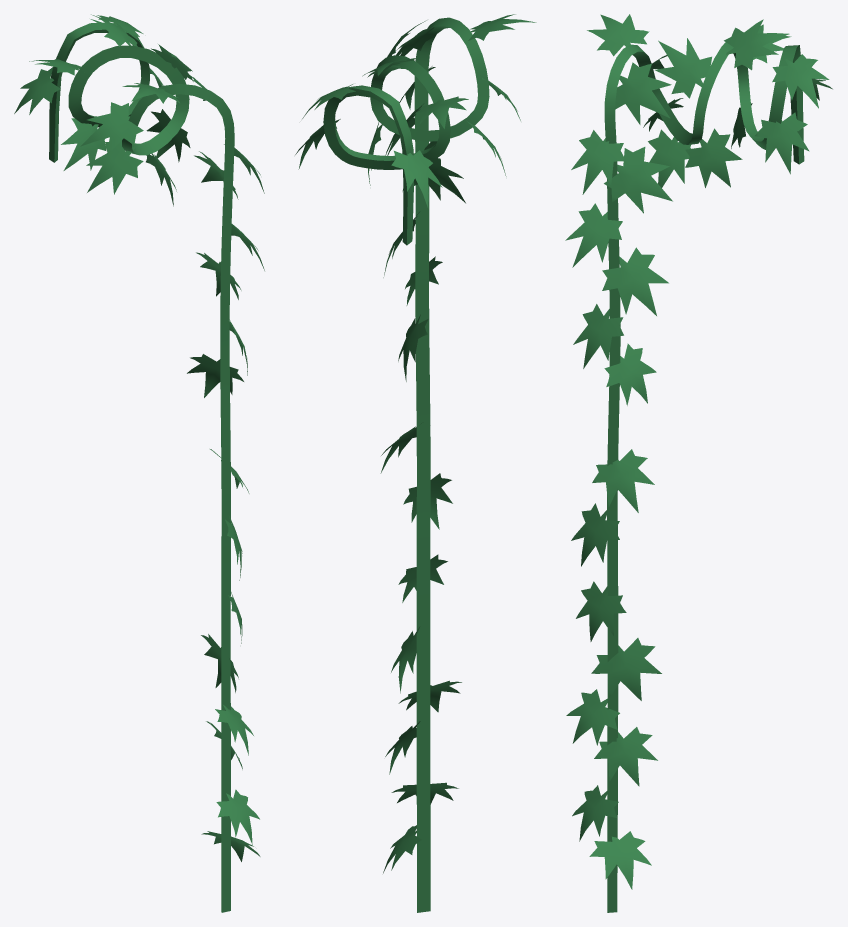
Rendered from vine_K_alangium.fbx.
3 renders of one model, left to right at view 1: azimuth 30°, elevation 25°; view 2: azimuth 150°, elevation 25°; view 3: azimuth 270°, elevation 25°, orthographic. The views are drawn at different scales.
Visible parts, largest first — view 1: vine_K_alangium_root, vine_alangium_A_leaf_B17, vine_alangium_A_leaf_B18, vine_alangium_A_leaf_B24, vine_alangium_A_leaf_B8, vine_alangium_A_leaf_B28, vine_alangium_A_leaf_B4, vine_alangium_A_leaf_B20, vine_alangium_A_leaf_B9, vine_alangium_A_leaf_B2, vine_alangium_A_leaf_B21; view 2: vine_K_alangium_root, vine_alangium_A_leaf_B28, vine_alangium_A_leaf_B11, vine_alangium_A_leaf_B24, vine_alangium_A_leaf_B4, vine_alangium_A_leaf_B23, vine_alangium_A_leaf_B2, vine_alangium_A_leaf_B10, vine_alangium_A_leaf_B16, vine_alangium_A_leaf_B, vine_alangium_A_leaf_B9, vine_alangium_A_leaf_B8; view 3: vine_K_alangium_root, vine_alangium_A_leaf_B5, vine_alangium_A_leaf_B6, vine_alangium_A_leaf_B2, vine_alangium_A_leaf_B7, vine_alangium_A_leaf_B3, vine_alangium_A_leaf_B1, vine_alangium_A_leaf_B22, vine_alangium_A_leaf_B14, vine_alangium_A_leaf_B20, vine_alangium_A_leaf_B15, vine_alangium_A_leaf_B (+11 smaller).
Part boxes in pixels (x1=…): vine_K_alangium_root: x1=49, y1=22, x2=234, y2=912; vine_alangium_A_leaf_B17: x1=80, y1=102, x2=143, y2=154; vine_alangium_A_leaf_B18: x1=86, y1=140, x2=143, y2=194; vine_alangium_A_leaf_B24: x1=61, y1=118, x2=106, y2=170; vine_alangium_A_leaf_B8: x1=216, y1=789, x2=259, y2=844; vine_alangium_A_leaf_B28: x1=14, y1=67, x2=60, y2=114; vine_alangium_A_leaf_B4: x1=187, y1=354, x2=243, y2=397; vine_alangium_A_leaf_B20: x1=146, y1=109, x2=190, y2=162; vine_alangium_A_leaf_B9: x1=215, y1=705, x2=253, y2=755; vine_alangium_A_leaf_B2: x1=201, y1=634, x2=238, y2=692; vine_alangium_A_leaf_B21: x1=90, y1=14, x2=137, y2=46; vine_K_alangium_root: x1=323, y1=17, x2=489, y2=912; vine_alangium_A_leaf_B28: x1=391, y1=150, x2=442, y2=208; vine_alangium_A_leaf_B11: x1=403, y1=473, x2=452, y2=529; vine_alangium_A_leaf_B24: x1=414, y1=154, x2=465, y2=203; vine_alangium_A_leaf_B4: x1=398, y1=314, x2=428, y2=381; vine_alangium_A_leaf_B23: x1=413, y1=96, x2=468, y2=128; vine_alangium_A_leaf_B2: x1=391, y1=626, x2=420, y2=693; vine_alangium_A_leaf_B10: x1=398, y1=554, x2=447, y2=602; vine_alangium_A_leaf_B16: x1=468, y1=14, x2=536, y2=40; vine_alangium_A_leaf_B: x1=383, y1=825, x2=421, y2=873; vine_alangium_A_leaf_B9: x1=398, y1=680, x2=461, y2=712; vine_alangium_A_leaf_B8: x1=391, y1=782, x2=458, y2=804; vine_K_alangium_root: x1=604, y1=42, x2=804, y2=912; vine_alangium_A_leaf_B5: x1=602, y1=247, x2=668, y2=315; vine_alangium_A_leaf_B6: x1=604, y1=147, x2=672, y2=213; vine_alangium_A_leaf_B2: x1=591, y1=638, x2=661, y2=700; vine_alangium_A_leaf_B7: x1=615, y1=62, x2=671, y2=124; vine_alangium_A_leaf_B3: x1=592, y1=449, x2=654, y2=512; vine_alangium_A_leaf_B1: x1=594, y1=727, x2=657, y2=786; vine_alangium_A_leaf_B22: x1=655, y1=38, x2=711, y2=98; vine_alangium_A_leaf_B14: x1=565, y1=203, x2=622, y2=267; vine_alangium_A_leaf_B20: x1=685, y1=128, x2=742, y2=187; vine_alangium_A_leaf_B15: x1=571, y1=130, x2=625, y2=194; vine_alangium_A_leaf_B: x1=589, y1=831, x2=651, y2=889.
Bounding box in the file's own units: 63.73 × 343 × 96.77.
